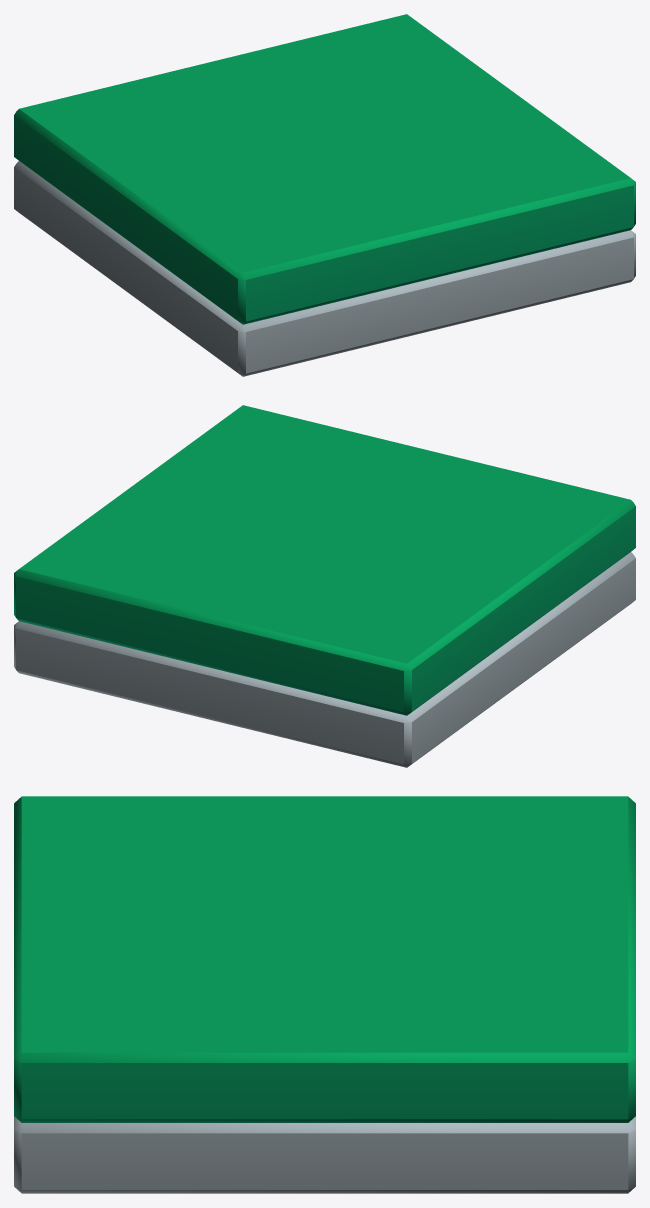
File: platform_4x4x1_green.glb
The picture shows the model from 3 angles, top to bottom: view 1: azimuth 30°, elevation 25°; view 2: azimuth 150°, elevation 25°; view 3: azimuth 270°, elevation 25°; orthographic projection. The views are drawn at different scales.
Visible parts, largest first — view 1: platform_4x4x1_green; view 2: platform_4x4x1_green; view 3: platform_4x4x1_green.
Part boxes in pixels (left/top/right/bottom): platform_4x4x1_green: left=14, top=14, right=635, bottom=376; platform_4x4x1_green: left=14, top=405, right=635, bottom=767; platform_4x4x1_green: left=14, top=796, right=635, bottom=1193.
Size of the model in its own units: 4 by 1 by 4.
Materials: 1 (1 with a texture image).
